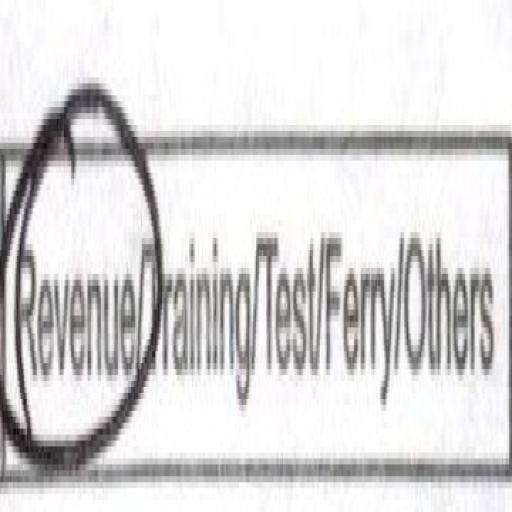check: (0, 31, 143, 512)
